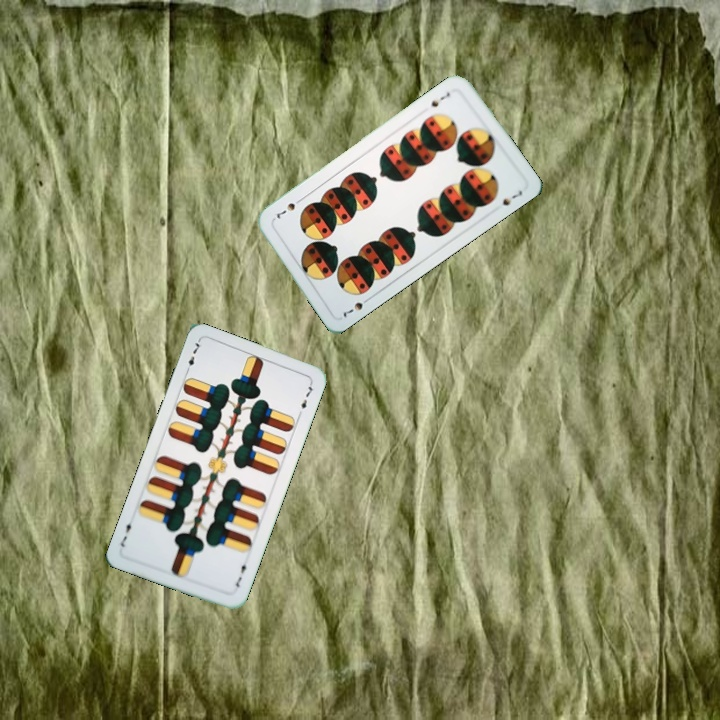E7: (181, 337, 204, 376), (231, 556, 251, 590)
S7: (339, 293, 373, 321), (427, 88, 453, 110)
